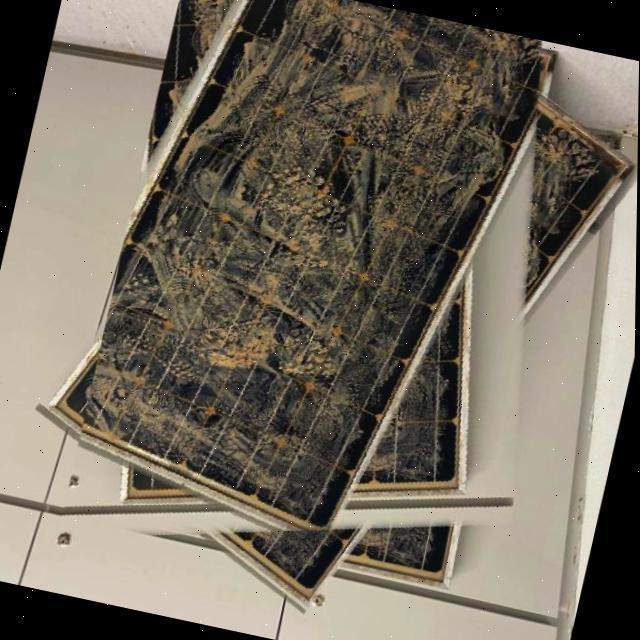Surface Contaminant: (59, 0, 619, 630)
